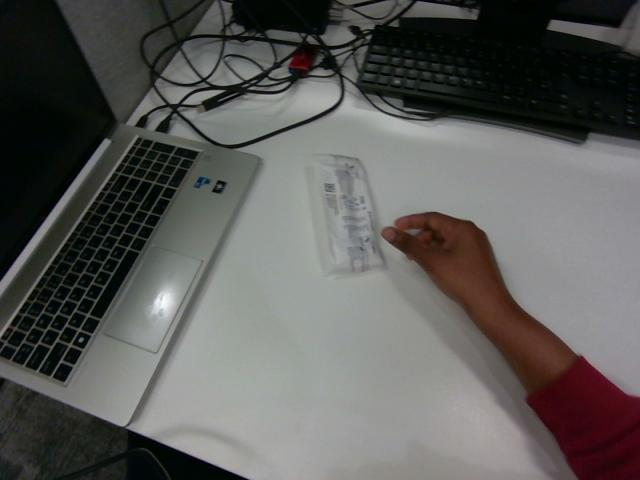syringe: (309, 155, 384, 276)
